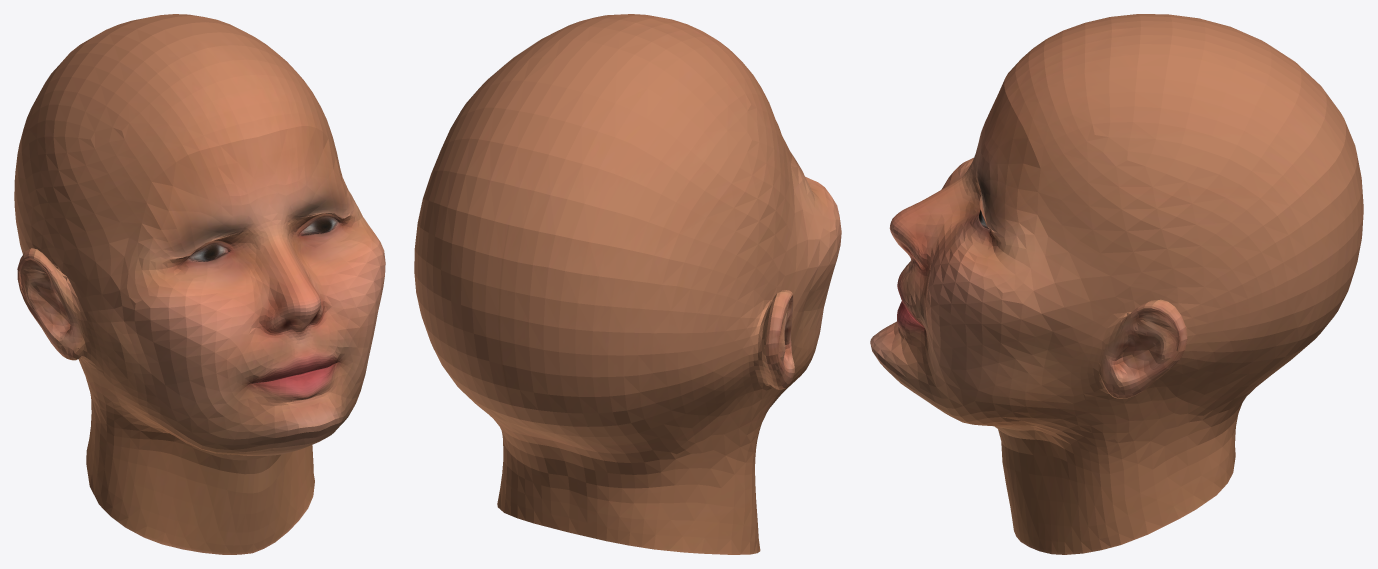
3 renders of one model, left to right at view 1: azimuth 30°, elevation 25°; view 2: azimuth 150°, elevation 25°; view 3: azimuth 270°, elevation 25°, orthographic. The views are drawn at different scales.
Visible parts, largest first — view 1: skin_hi, eyeR_hi; view 2: skin_hi; view 3: skin_hi.
Part boxes in pixels (box(x1,y1,x2,y2)): skin_hi: box(14, 14, 385, 554); eyeR_hi: box(187, 244, 227, 261); skin_hi: box(414, 14, 841, 554); skin_hi: box(870, 14, 1363, 554).
Bounding box in the file's own units: 195 × 281 × 249.
Materials: 7 (7 with a texture image).
